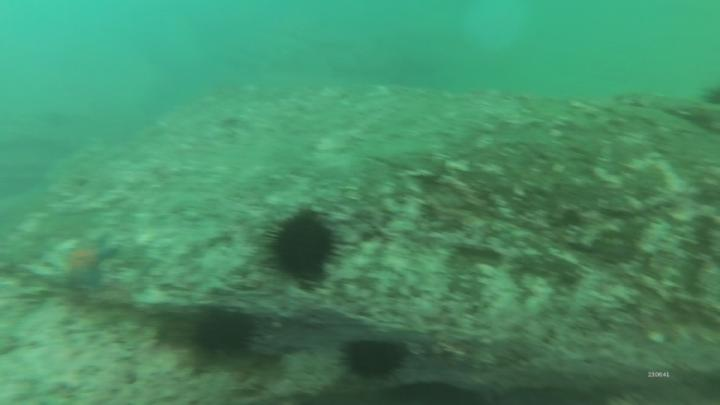echinus: (268, 209, 340, 292), (194, 303, 259, 361), (337, 334, 410, 384)
starfish: (58, 235, 119, 289)
